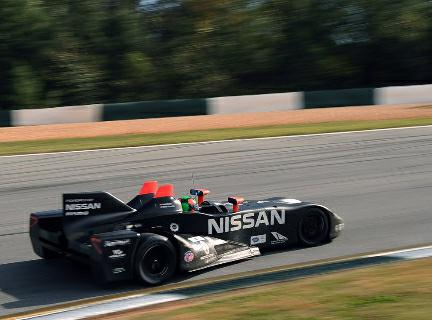日产-DeltaWing: (25, 180, 349, 291)
